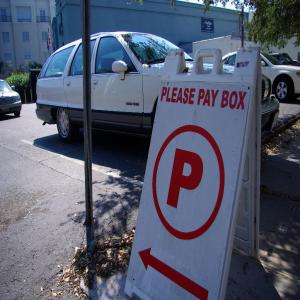Vehicle-registration-plate: (3, 107, 10, 112)
